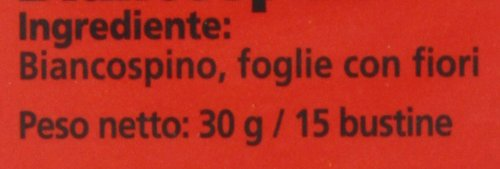15: (293, 108, 336, 138)
30: (203, 96, 236, 151)
Biancospino,: (20, 48, 225, 88)
Peso: (20, 111, 89, 139)
bustine: (338, 100, 453, 138)
con: (343, 48, 408, 90)
fiori: (411, 46, 479, 91)
foglie: (237, 47, 334, 97)
netto:: (99, 111, 192, 139)
